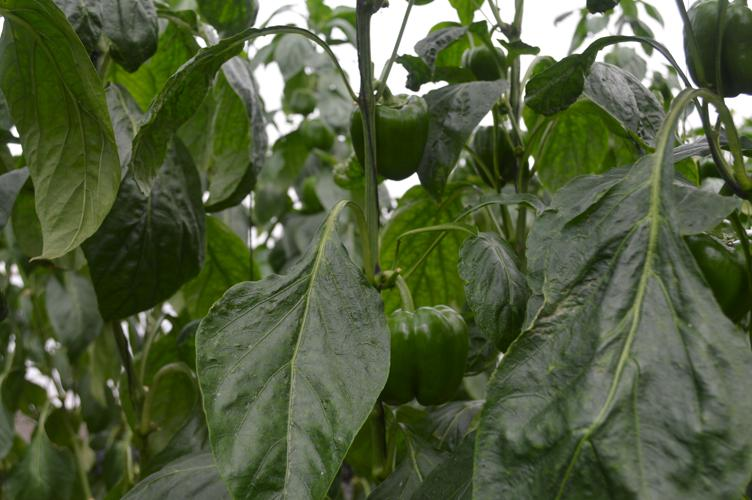BellPepper: (372, 301, 465, 403), (676, 2, 750, 97), (349, 92, 424, 180), (682, 229, 748, 322), (465, 125, 525, 194)
